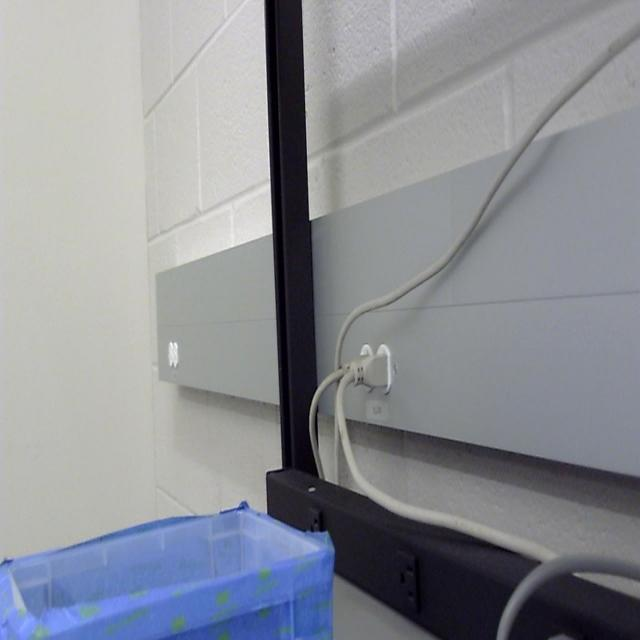bucket: (0, 505, 336, 640)
